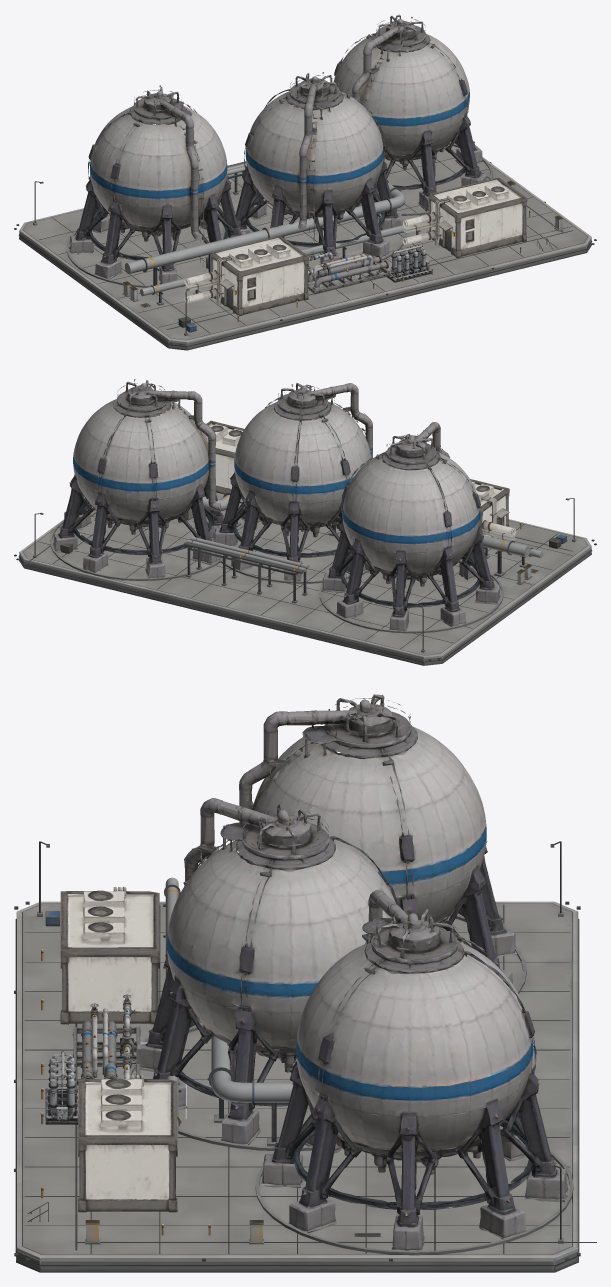
The model's file is deuterium_depot.lite.glb.
3 views of the same model, one above another, from view 1: azimuth 30°, elevation 25°; view 2: azimuth 150°, elevation 25°; view 3: azimuth 270°, elevation 25° (orthographic). The views are drawn at different scales.
Parts seen in each view (by area): view 1: parts_colony-sphereTank, hull, parts_colony-plantHouse, parts_colony-manifoldSkid, parts_colony-filterBank; view 2: parts_colony-sphereTank, hull, parts_colony-plantHouse; view 3: parts_colony-sphereTank, hull, parts_colony-plantHouse, parts_colony-manifoldSkid, parts_colony-filterBank.
Boxes of the visible parts, x1,y1,x2,y2 form: parts_colony-sphereTank: [69, 14, 486, 284]; hull: [14, 141, 596, 350]; parts_colony-plantHouse: [184, 178, 527, 316]; parts_colony-manifoldSkid: [308, 251, 390, 294]; parts_colony-filterBank: [386, 244, 431, 282]; parts_colony-sphereTank: [53, 379, 500, 630]; hull: [14, 492, 596, 665]; parts_colony-plantHouse: [205, 420, 516, 549]; parts_colony-sphereTank: [135, 694, 568, 1251]; hull: [14, 841, 596, 1272]; parts_colony-plantHouse: [60, 886, 177, 1212]; parts_colony-manifoldSkid: [72, 994, 140, 1093]; parts_colony-filterBank: [45, 1050, 78, 1124].
Bounding box in the file's own units: 72.42 × 27.52 × 49.81.
Materials: 5 (5 with a texture image).
